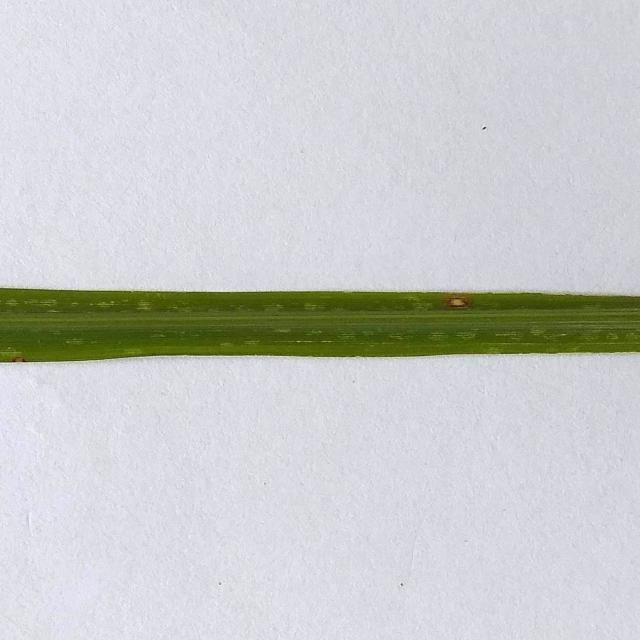Blast: (444, 293, 474, 311)
